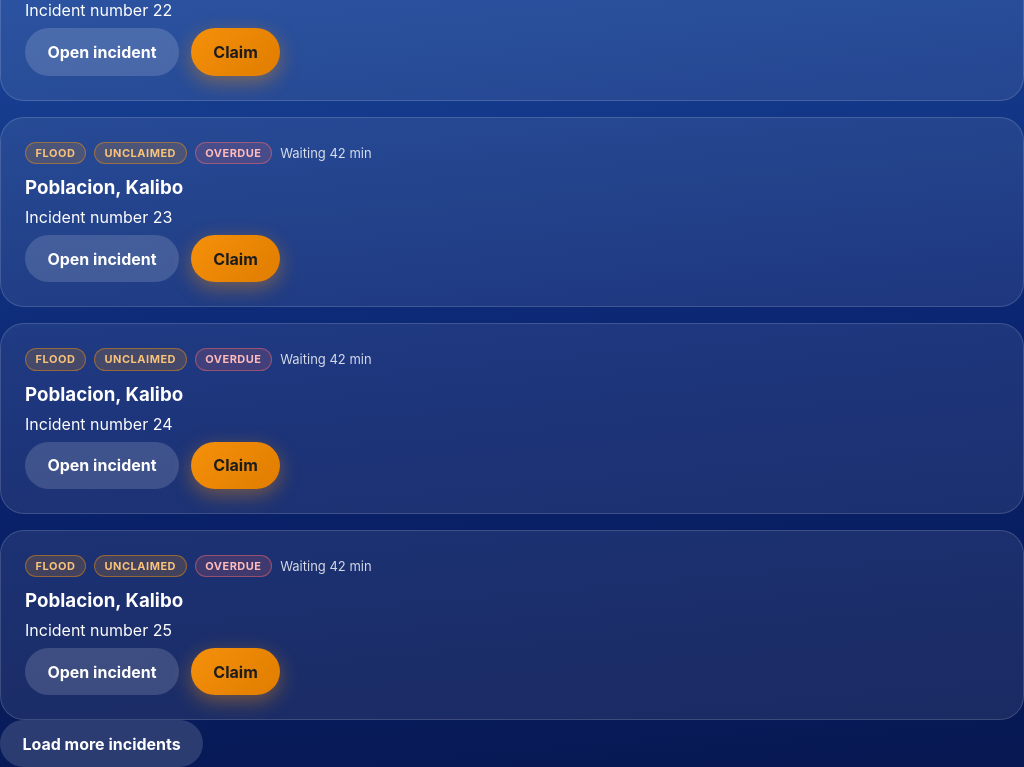
Test: incident queue route › REQ-023: pages to every open incident with Load more
(page scrolled)
Click the button "Load more incidents": x=102, y=744 x1=0 y1=720 x2=203 y2=766
(page scrolled)
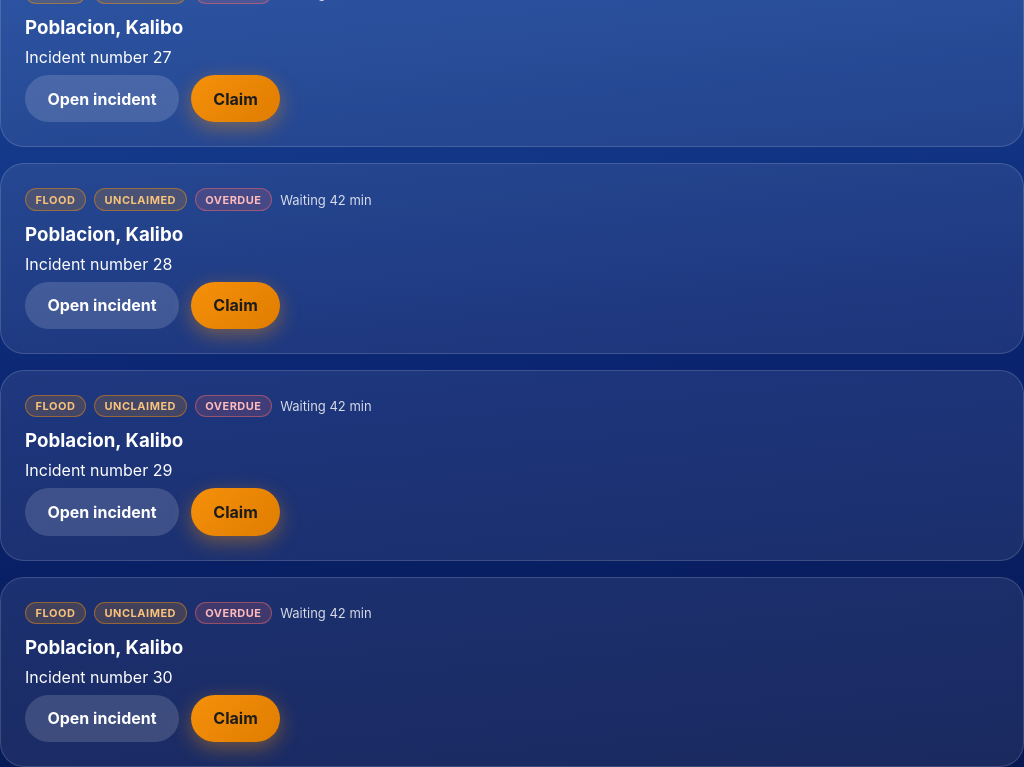
expect the text "Incident number 30" is shown: met, box x1=25 y1=667 x2=173 y2=687
expect the button "Load more incidents" is gone: met
